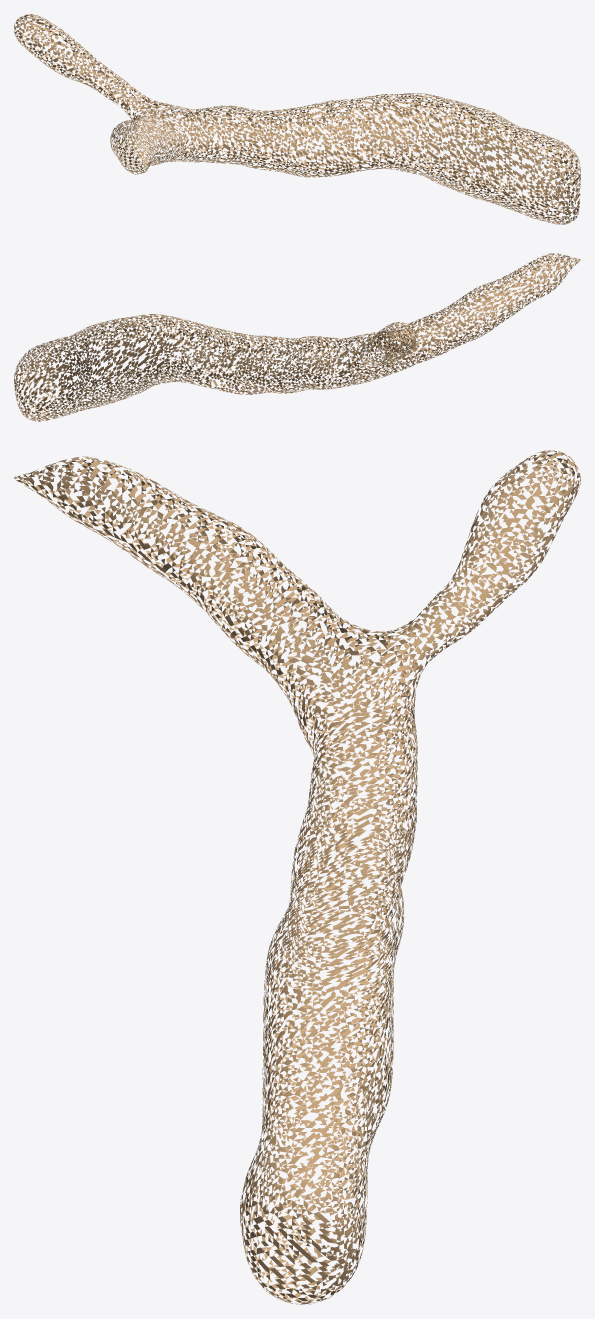
Rendered from morph_006.glb.
3 views of the same model, one above another, from view 1: azimuth 30°, elevation 25°; view 2: azimuth 150°, elevation 25°; view 3: azimuth 270°, elevation 25° (orthographic). The views are drawn at different scales.
Size of the model in its own units: 118 by 57.73 by 64.37.
